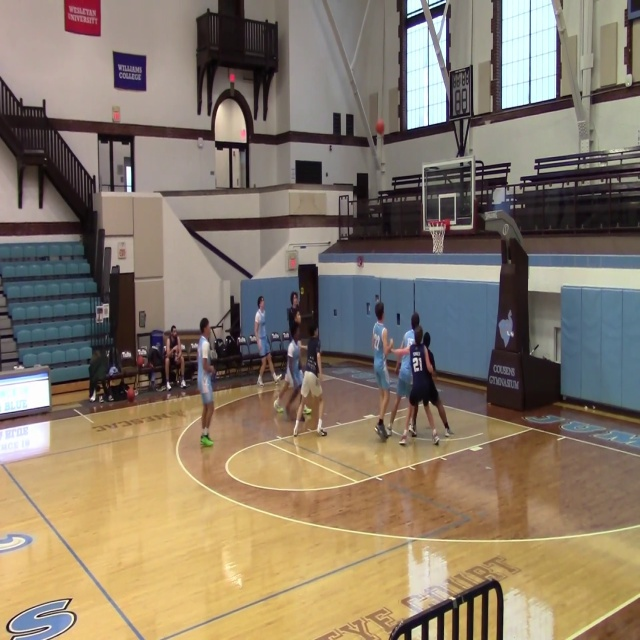Basketball: (375, 119, 384, 134), (126, 387, 135, 402)
